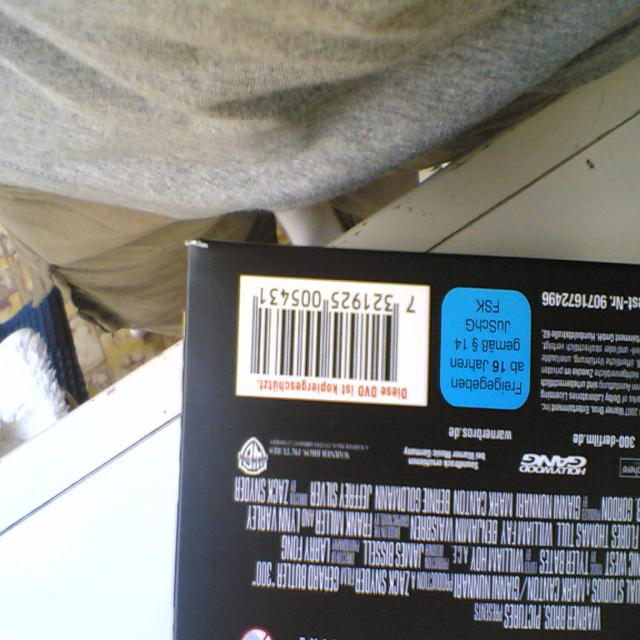barcode: (236, 275, 430, 406)
